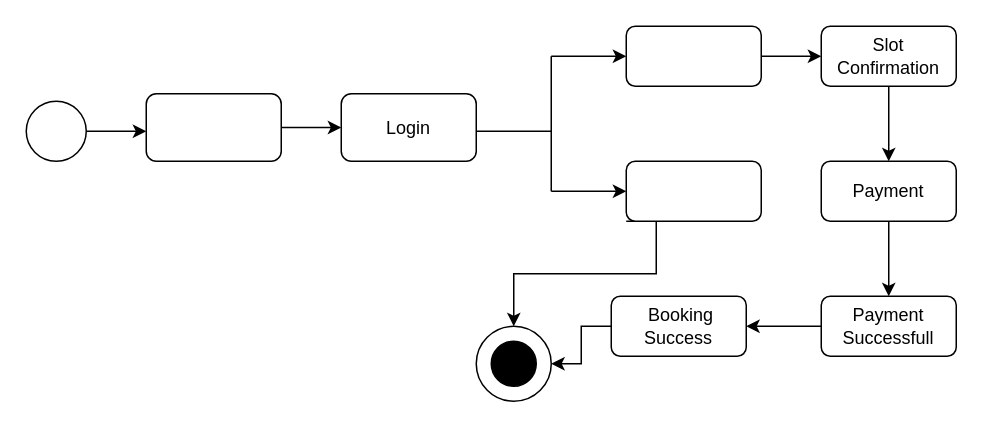
Image size: 983x428. Some labels were removed from this diagram. Each missing label, with the centre of its shape:
Car Booking: the point at 693,55
Idle: the point at 213,126
View Cars and Accessories: the point at 693,190
